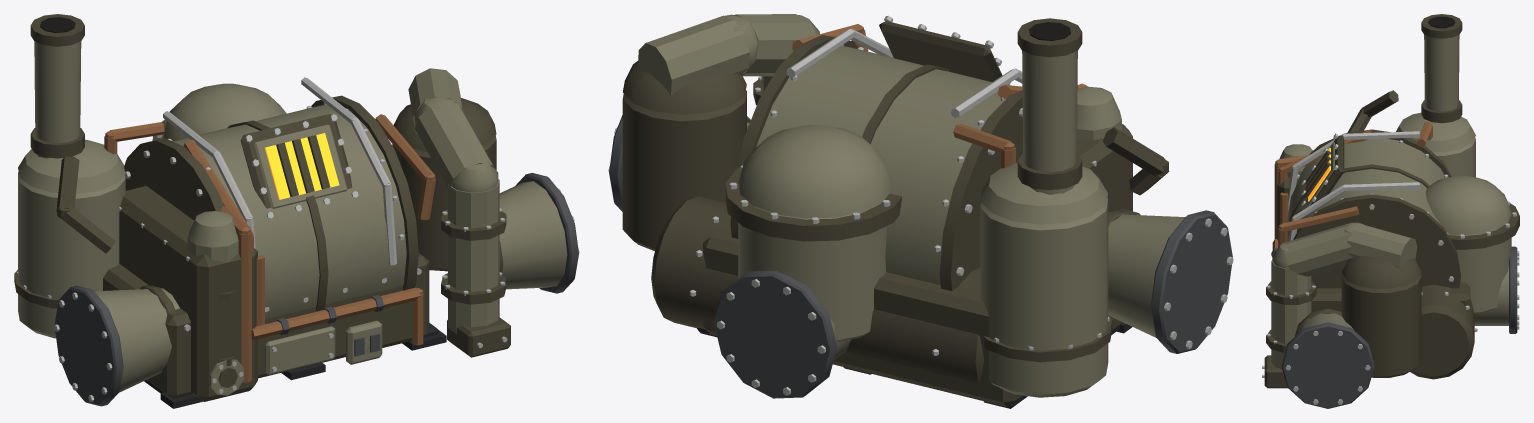
File: boiler.glb
3 views of the same model, side by side, from view 1: azimuth 30°, elevation 25°; view 2: azimuth 150°, elevation 25°; view 3: azimuth 270°, elevation 25° (orthographic). The views are drawn at different scales.
Parts seen in each view (by area): view 1: body; view 2: body; view 3: body.
Boxes of the visible parts, <box> form: body: <box>14,14,579,408</box>; body: <box>608,14,1233,408</box>; body: <box>1262,14,1519,408</box>.
Bounding box in the file's own units: 2.99 × 1.96 × 1.88.
